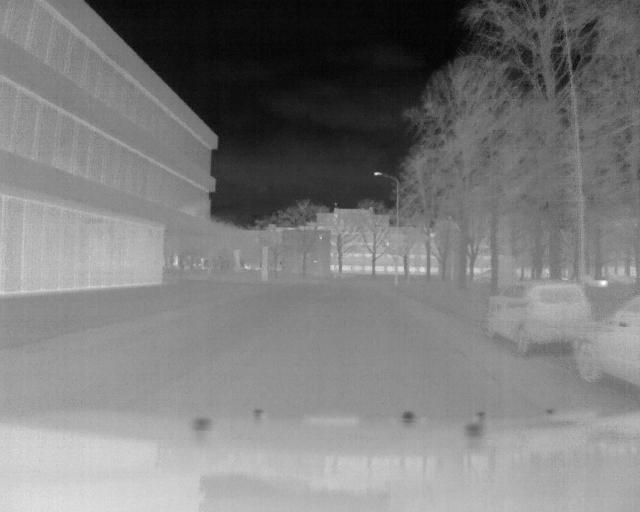car: (482, 278, 598, 360), (573, 291, 640, 387)
